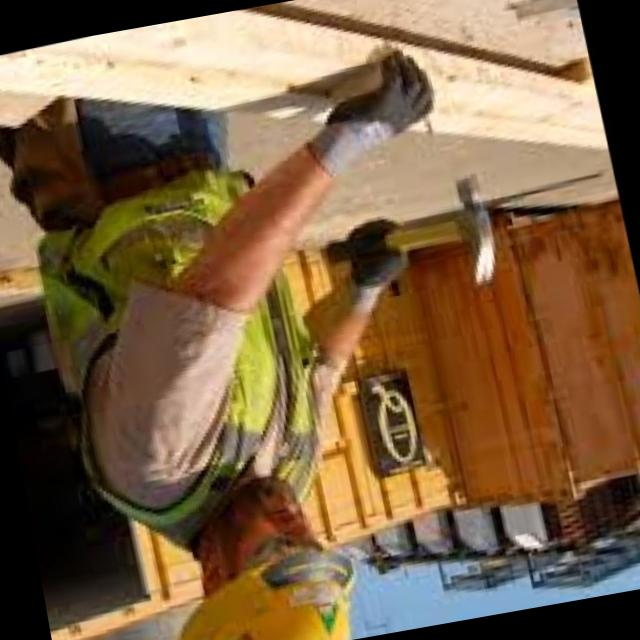gloved: (295, 41, 452, 180), (342, 213, 416, 297)
